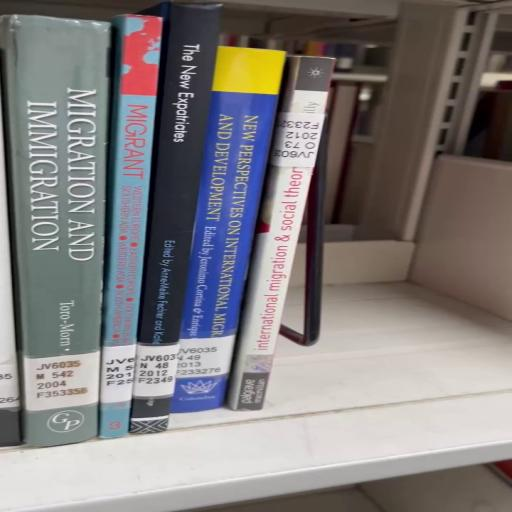reverse: (228, 57, 335, 412)
